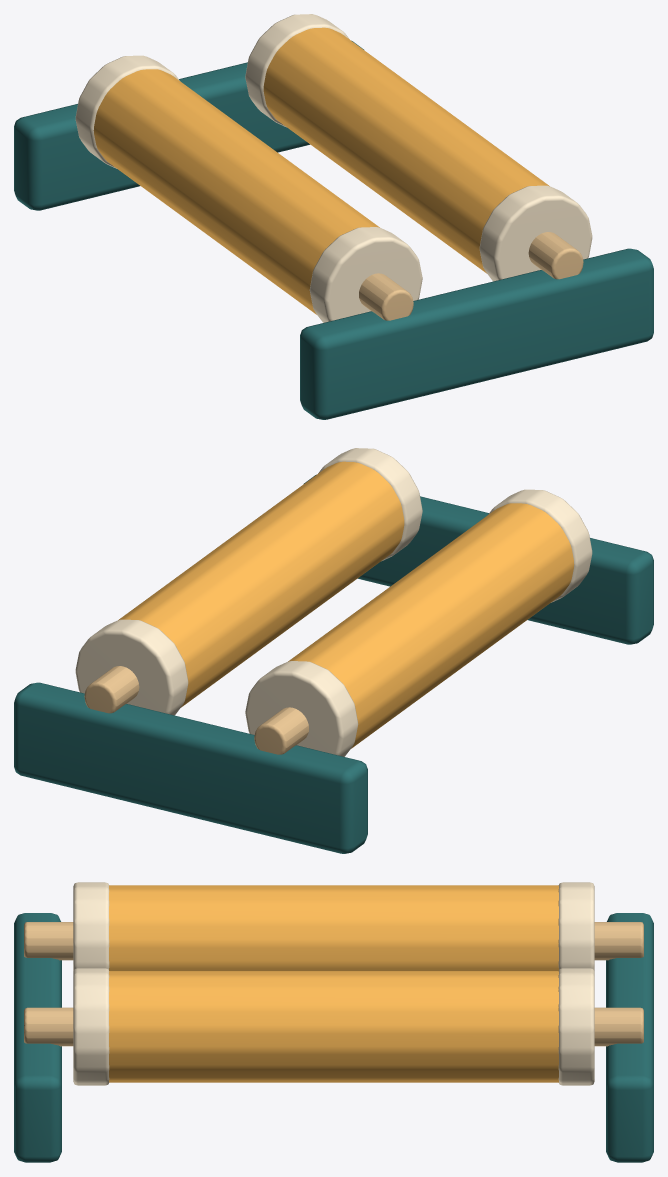
File: A14_RollingPin.fbx
3 renders of one model, top to bottom at view 1: azimuth 30°, elevation 25°; view 2: azimuth 150°, elevation 25°; view 3: azimuth 270°, elevation 25°, orthographic. The views are drawn at different scales.
Parts seen in each view (by area): view 1: Petrol axle cradle, Honey roller.001, Honey roller, Petrol axle cradle.001, Roller collar front.001, Roller collar front, Roller collar back, Roller collar back.001, Spindle, Spindle.001; view 2: Petrol axle cradle.001, Honey roller.001, Honey roller, Petrol axle cradle, Roller collar back.001, Roller collar back, Roller collar front, Roller collar front.001, Spindle, Spindle.001; view 3: Honey roller.001, Honey roller, Petrol axle cradle, Petrol axle cradle.001, Roller collar back.001, Roller collar front.001, Spindle.001, Spindle, Roller collar back, Roller collar front.
Boxes of the visible parts, <box> form: Petrol axle cradle: <box>300,248,653,419</box>; Honey roller.001: <box>263,27,549,273</box>; Honey roller: <box>93,69,379,314</box>; Petrol axle cradle.001: <box>14,40,363,210</box>; Roller collar front.001: <box>479,185,592,281</box>; Roller collar front: <box>309,227,422,322</box>; Roller collar back: <box>75,55,179,168</box>; Roller collar back.001: <box>245,14,349,127</box>; Spindle: <box>86,84,413,320</box>; Spindle.001: <box>528,232,583,279</box>; Petrol axle cradle.001: <box>14,682,367,853</box>; Honey roller.001: <box>118,461,404,707</box>; Honey roller: <box>288,503,574,748</box>; Petrol axle cradle: <box>304,474,653,644</box>; Roller collar back.001: <box>75,619,188,715</box>; Roller collar back: <box>245,661,358,756</box>; Roller collar front: <box>488,489,592,602</box>; Roller collar front.001: <box>318,448,422,561</box>; Spindle: <box>254,518,581,754</box>; Spindle.001: <box>84,666,139,713</box>; Honey roller.001: <box>109,971,558,1082</box>; Honey roller: <box>109,885,558,970</box>; Petrol axle cradle: <box>14,913,61,1162</box>; Petrol axle cradle.001: <box>606,913,653,1162</box>; Roller collar back.001: <box>558,968,594,1085</box>; Roller collar front.001: <box>73,968,109,1085</box>; Spindle.001: <box>24,1007,643,1046</box>; Spindle: <box>24,922,643,960</box>; Roller collar back: <box>558,882,594,971</box>; Roller collar front: <box>73,882,109,971</box>.
Size of what is drawn, in the model's own units: 0.144 by 0.0588 by 0.227.
